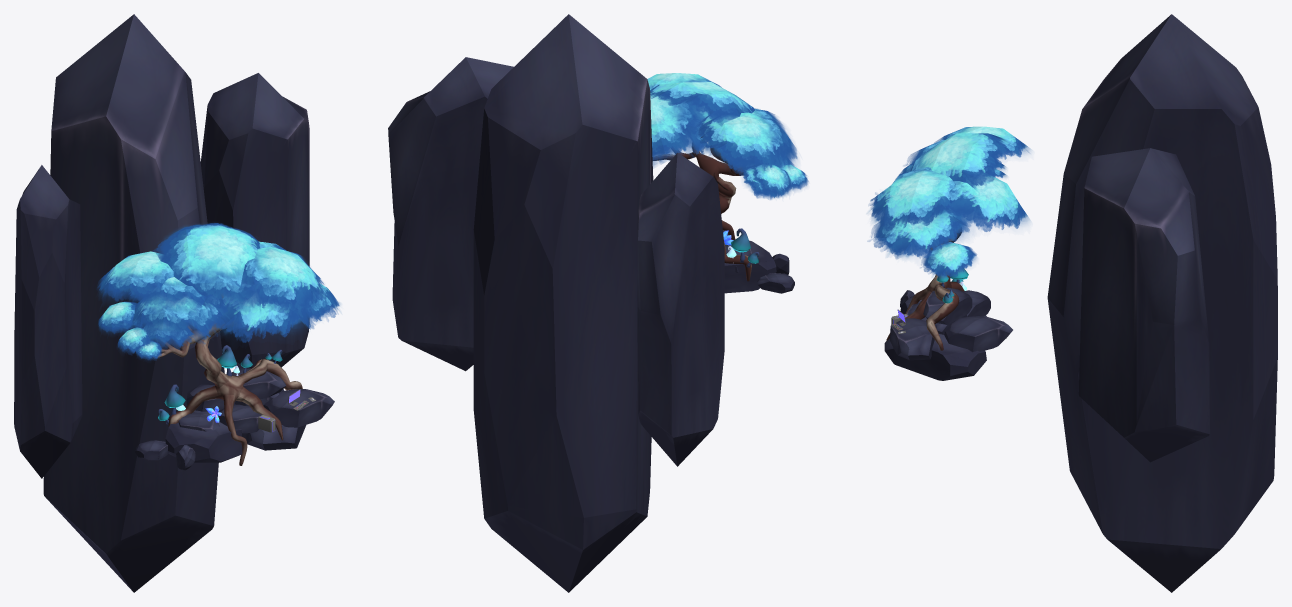
File: deskScene.glb
3 renders of one model, left to right at view 1: azimuth 30°, elevation 25°; view 2: azimuth 150°, elevation 25°; view 3: azimuth 270°, elevation 25°, orthographic.
Parts seen in each view (by area): view 1: kovrik; view 2: kovrik; view 3: kovrik.
Part boxes in pixels (x1,y1,x2,y2): kovrik: (14, 14, 340, 592); kovrik: (388, 14, 808, 592); kovrik: (867, 14, 1277, 592).
Size of the model in its own units: 29.73 by 51.02 by 34.49.
Materials: 9 (6 with a texture image).
